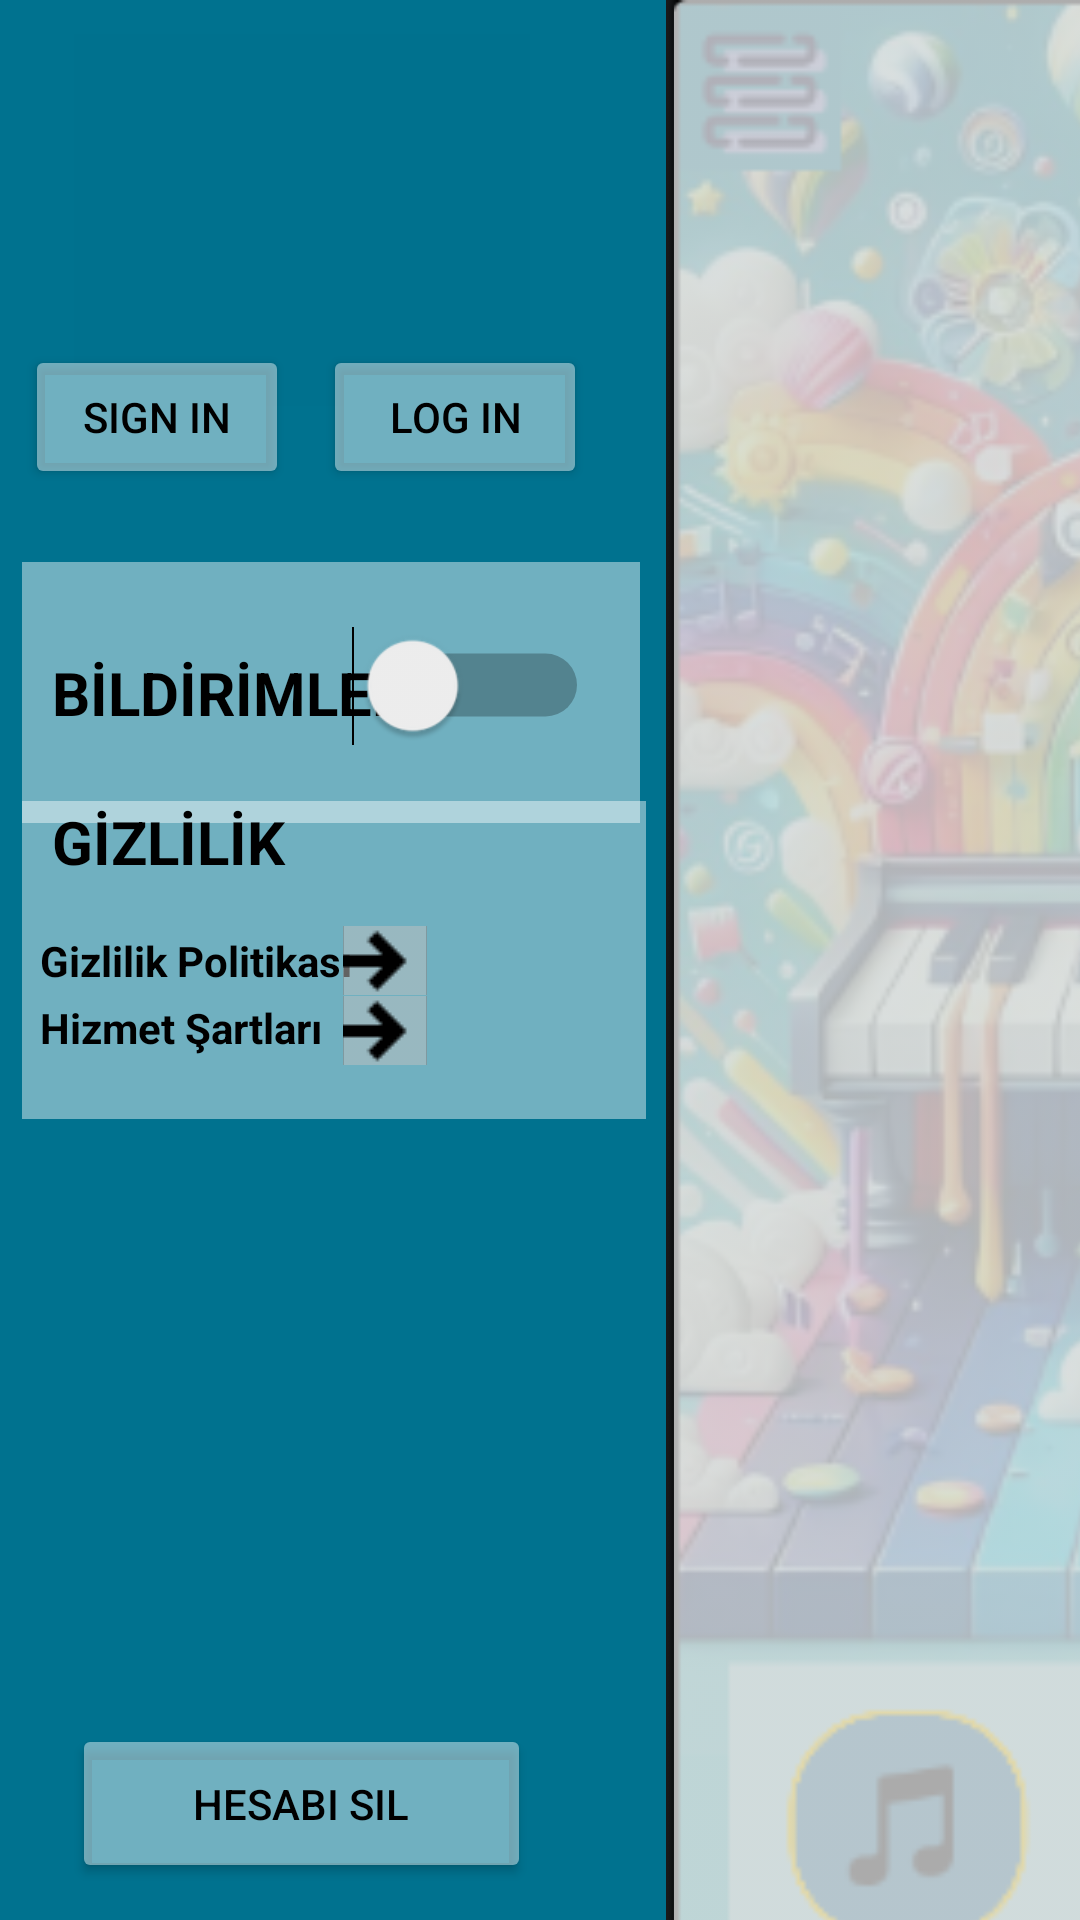

Where icons sit on this 1080w x 1920h app screen, as (x1, y1, x2, y2):
enter: (343, 926, 427, 995), (343, 996, 427, 1065)
